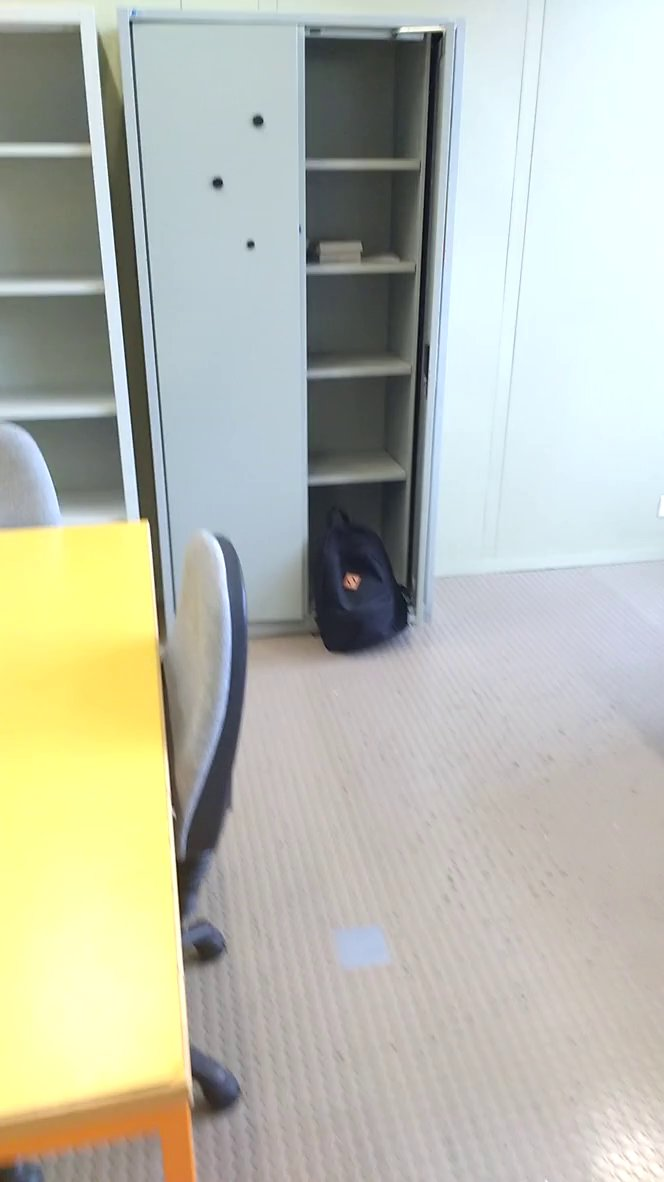bag: (301, 497, 419, 664)
chair: (130, 511, 259, 976)
